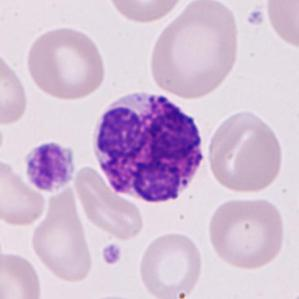Basophil: (87, 83, 212, 209)
Platelets: (21, 138, 79, 193), (100, 242, 122, 267), (244, 6, 266, 28)
RBC: (145, 0, 242, 101), (204, 106, 286, 195), (24, 24, 108, 102), (205, 194, 287, 272), (28, 198, 96, 286), (71, 163, 146, 241), (137, 229, 205, 299), (0, 154, 50, 229), (0, 48, 31, 127), (0, 248, 45, 299), (104, 0, 188, 25), (263, 0, 298, 53), (81, 292, 145, 299)
